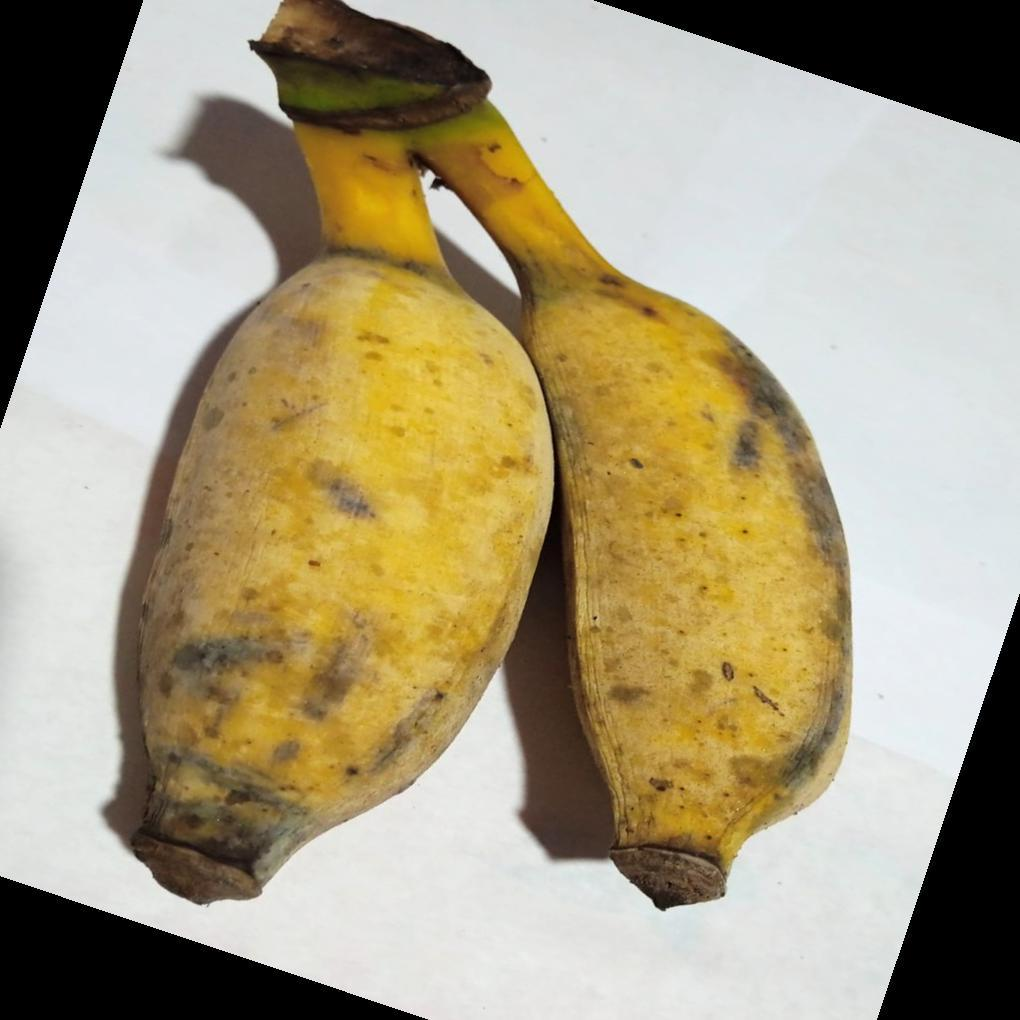Banana Ripe: (445, 24, 943, 971), (121, 6, 573, 940)
